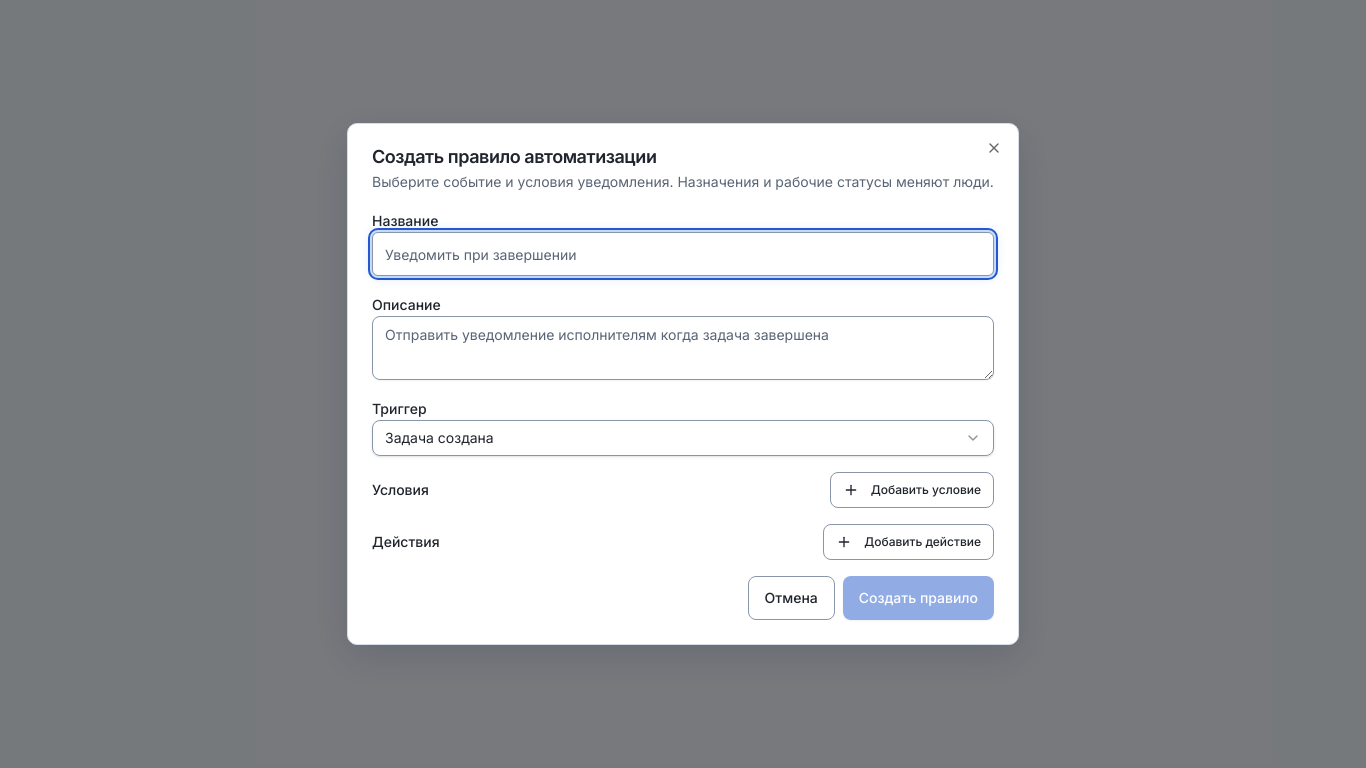
keeps a failed rule submission open and exposes a retryable error
Type "Тестовое правило" into the field labelled "Название" at [683, 254], box [372, 232, 994, 276]
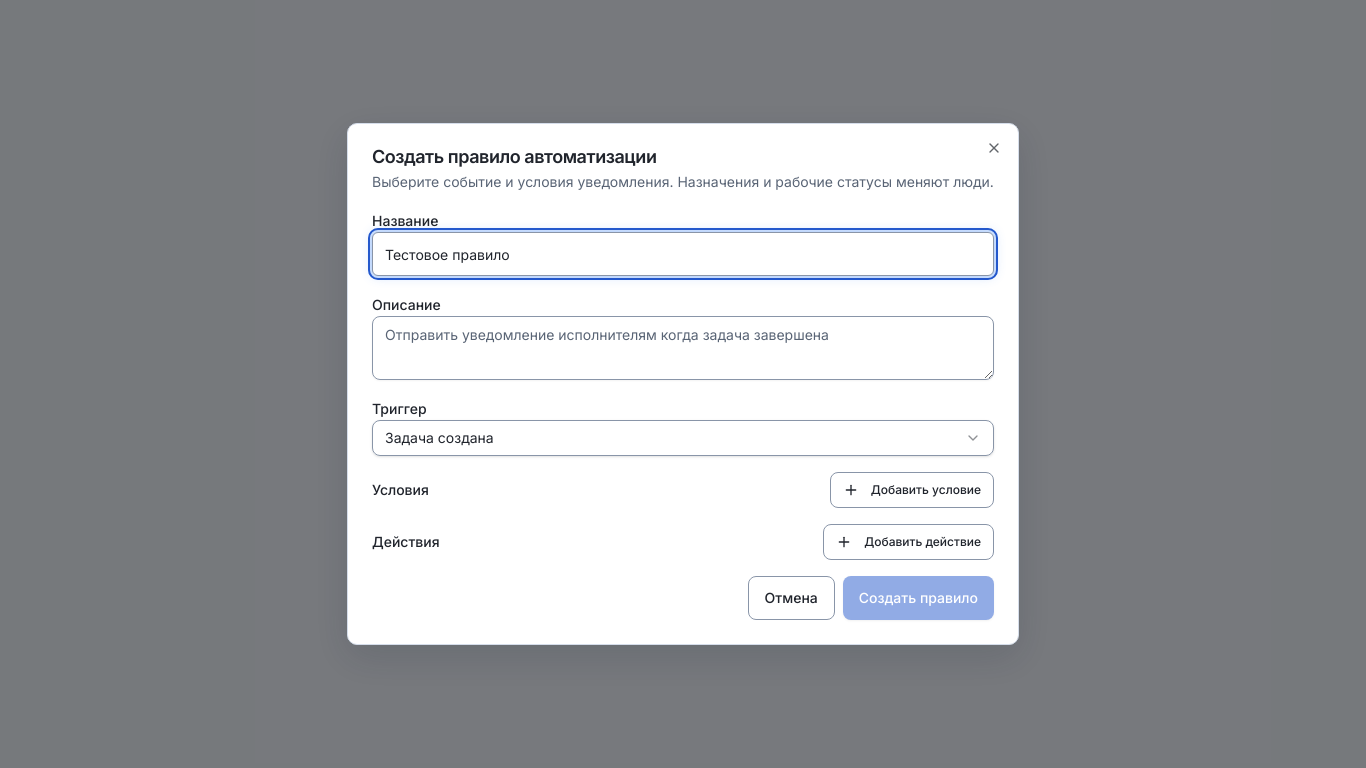
Click the button "Добавить действие" at [909, 542], box [823, 524, 994, 560]
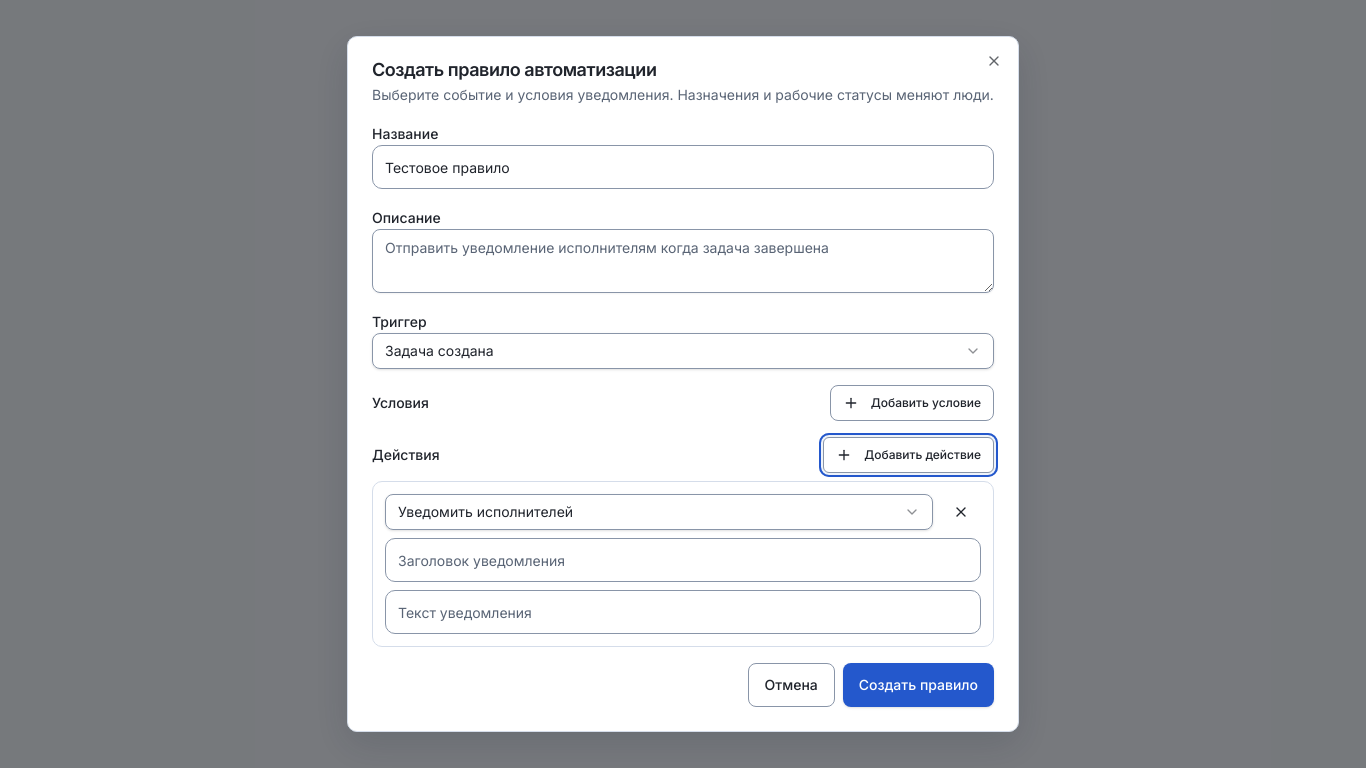
Click the button "Создать правило" at [918, 685], box [843, 663, 994, 707]
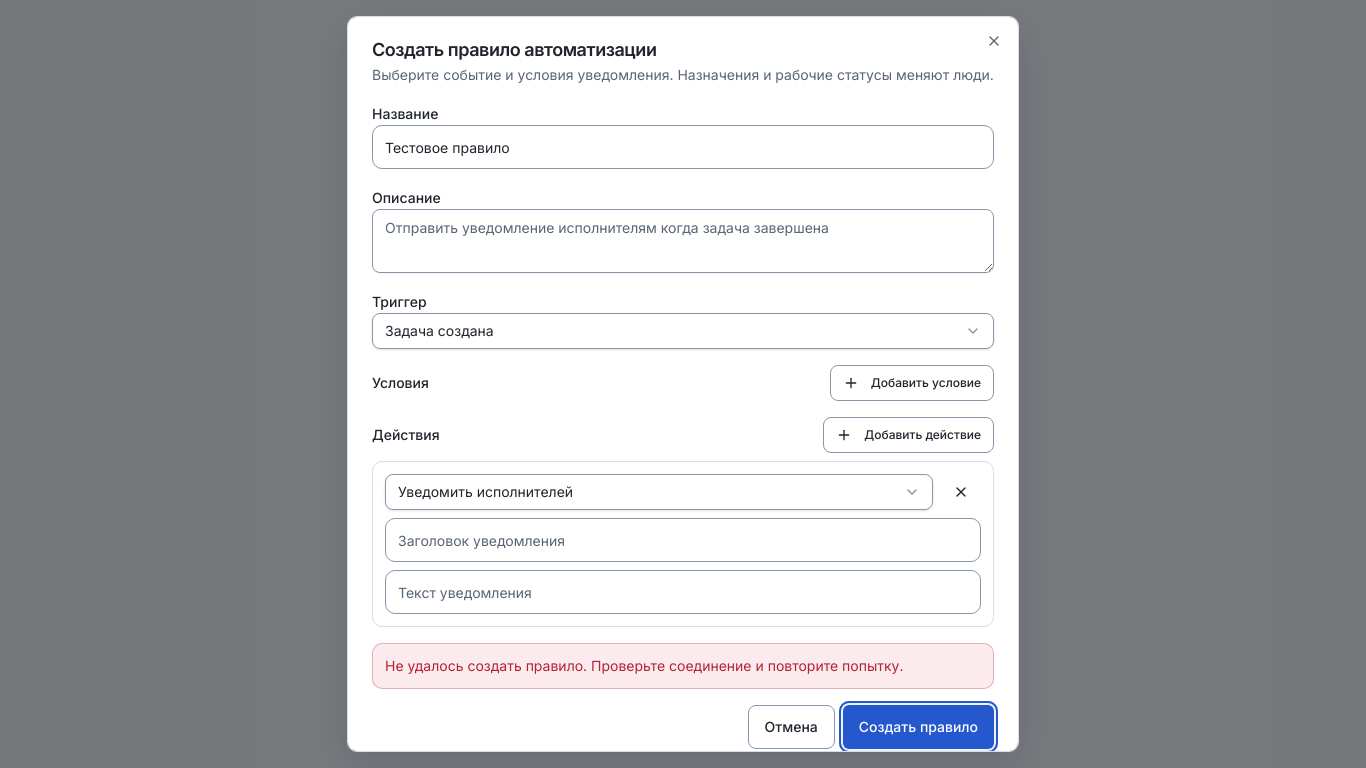
Expected: the button "Создать правило" is enabled, [843, 705, 994, 749]
Expected: the message shows "Не удалось создать правило", [385, 657, 904, 674]
